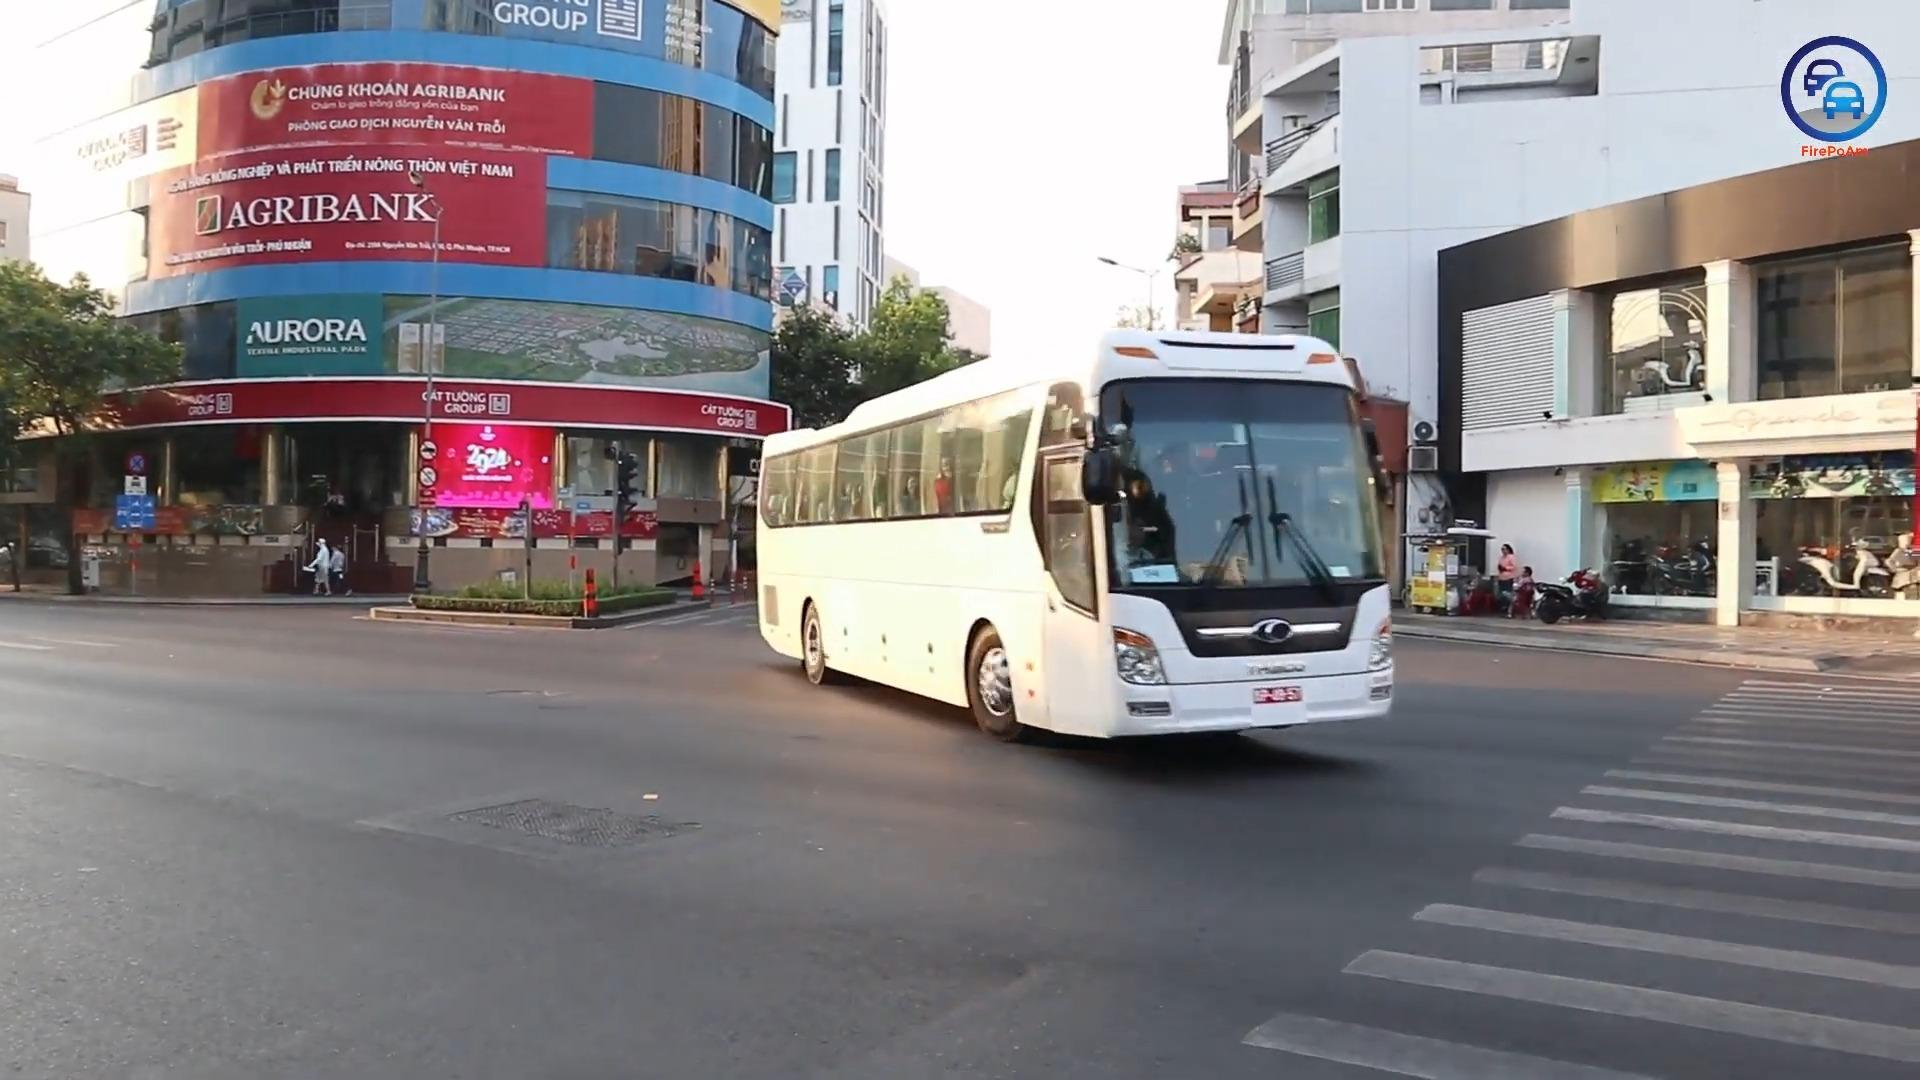bien_so: (1252, 685, 1305, 705)
